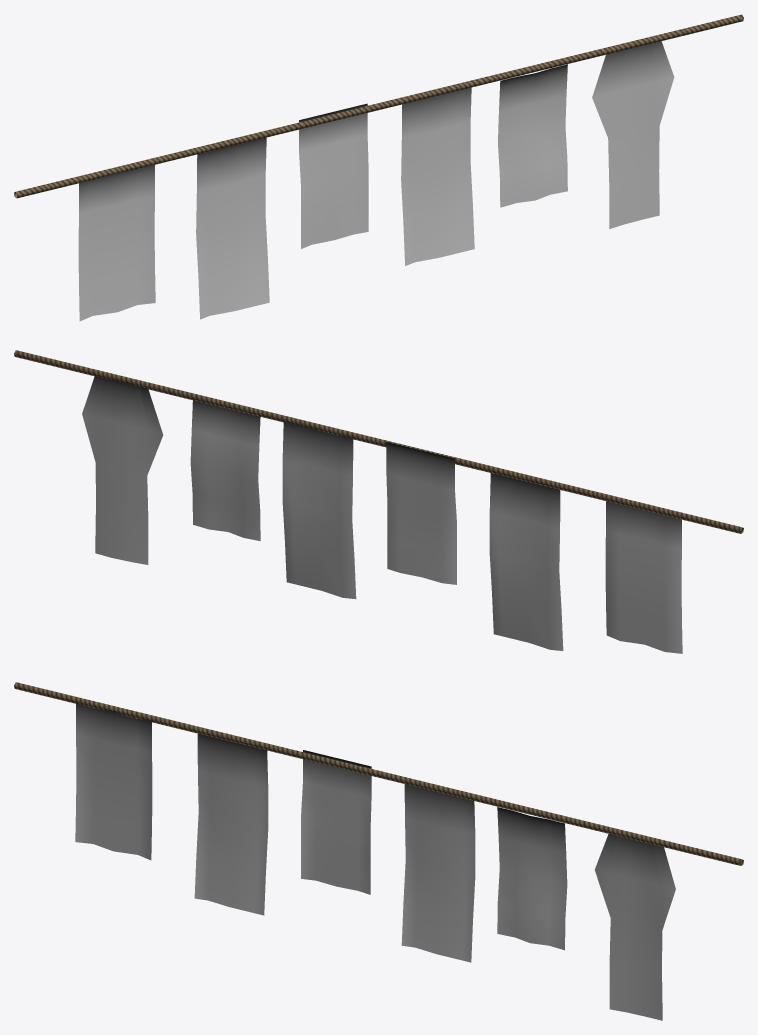
The model's file is ClothesLine_A_mdl.fbx.
3 views of the same model, one above another, from view 1: azimuth 30°, elevation 25°; view 2: azimuth 150°, elevation 25°; view 3: azimuth 330°, elevation 25° (orthographic).
Parts seen in each view (by area): view 1: ClothesLine_A_LOD0; view 2: ClothesLine_A_LOD0; view 3: ClothesLine_A_LOD0.
Boxes of the visible parts, x1,y1,x2,y2 form: ClothesLine_A_LOD0: (14, 14, 743, 321); ClothesLine_A_LOD0: (14, 350, 743, 653); ClothesLine_A_LOD0: (14, 682, 743, 1020).
Size of the model in its own units: 512 by 123 by 6.47.
